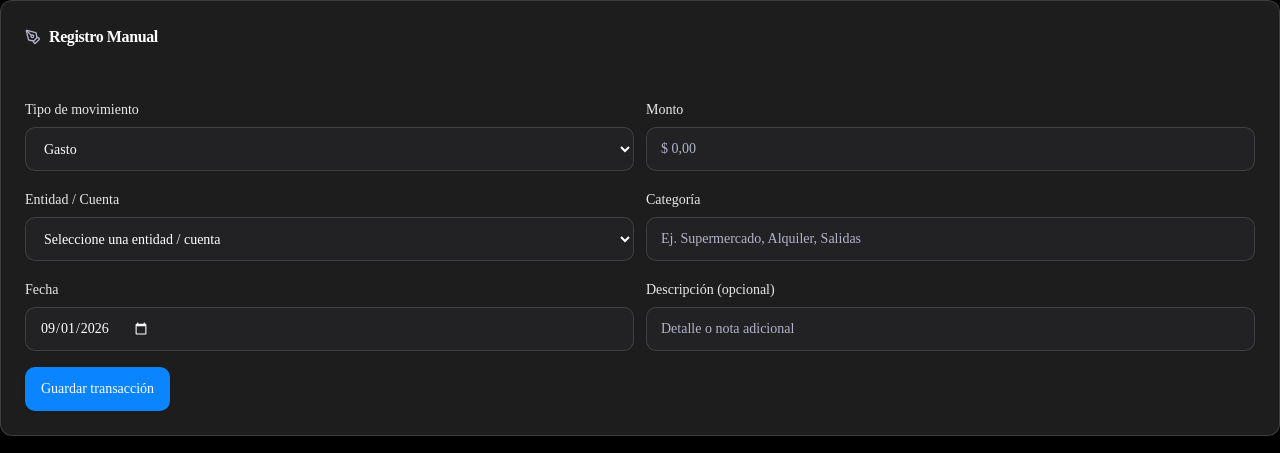
Test: ManualTransactionForm › Currency Amount Input & Argentine Formatting › formats amount in real-time with Argentine currency conventions ($ and thousands dots)
The image size is (1280, 453).
In the field labelled "Monto": (950, 149) [646, 127, 1255, 171], type "1234567"
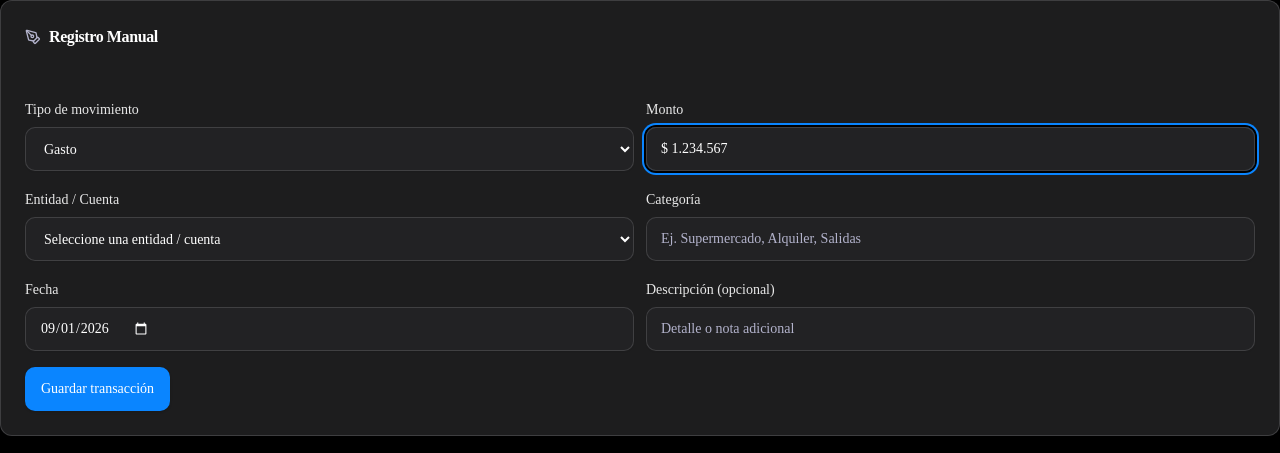
Expected: the field labelled "Monto" holds "$ 1.234.567", [646, 127, 1255, 171]
